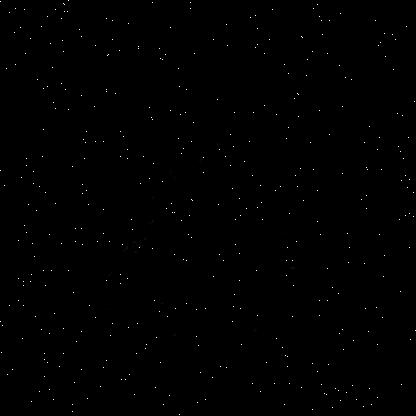Others: (100, 96, 382, 372)
